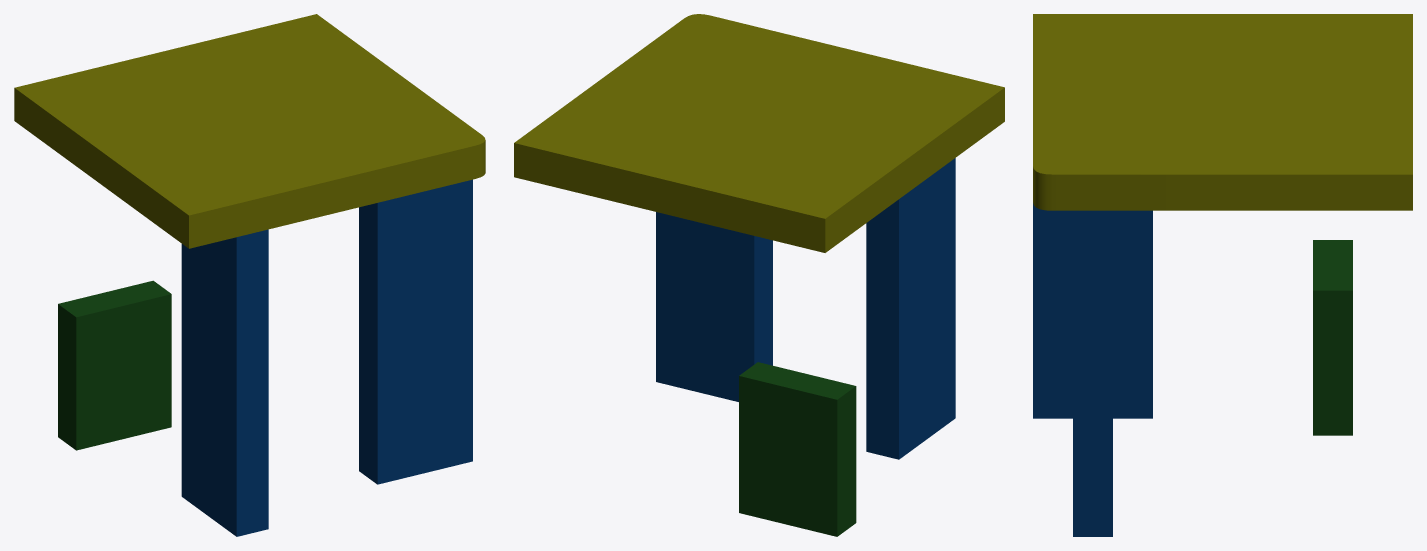
File: T8DirR.fbx
3 views of the same model, side by side, from view 1: azimuth 30°, elevation 25°; view 2: azimuth 150°, elevation 25°; view 3: azimuth 270°, elevation 25° (orthographic). The views are drawn at different scales.
Parts seen in each view (by area): view 1: 1, 3, 4, 2; view 2: 4, 3, 1, 2; view 3: 1, 3, 4, 2.
Part boxes in pixels (left/top/right/bottom): 1: left=253, top=78, right=485, bottom=484; 3: left=101, top=115, right=340, bottom=536; 4: left=14, top=51, right=252, bottom=450; 2: left=166, top=14, right=403, bottom=114; 4: left=669, top=115, right=914, bottom=536; 3: left=760, top=49, right=1004, bottom=459; 1: left=604, top=14, right=848, bottom=401; 2: left=514, top=77, right=758, bottom=214; 1: left=1033, top=94, right=1222, bottom=536; 3: left=1033, top=14, right=1222, bottom=418; 4: left=1223, top=14, right=1412, bottom=435; 2: left=1223, top=94, right=1412, bottom=210.
Size of the model in its own units: 190 by 200 by 190.
